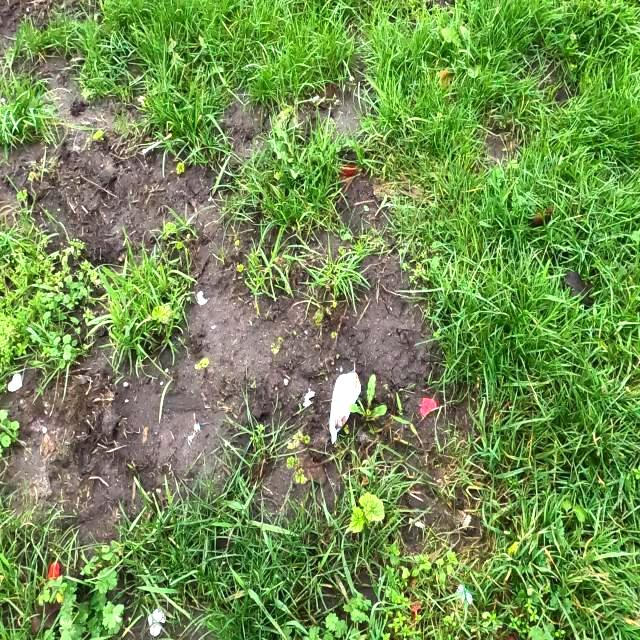Paper: (303, 388, 315, 407)
Plastic: (328, 372, 362, 444)
